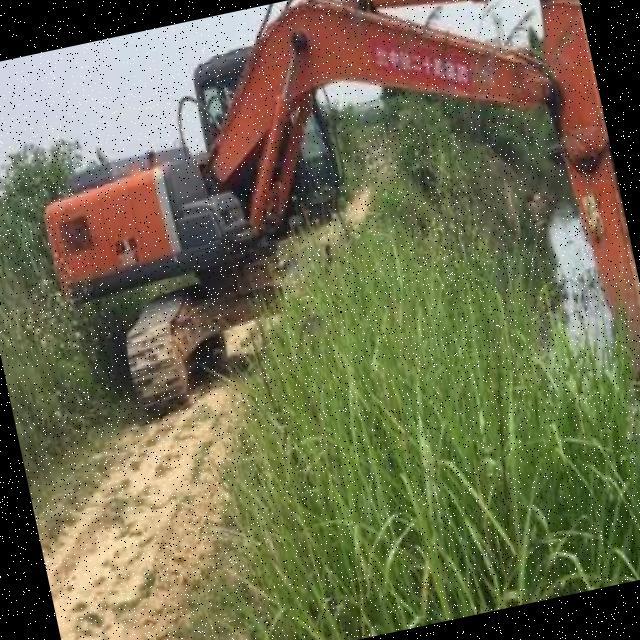Excavator: (5, 0, 640, 498)
